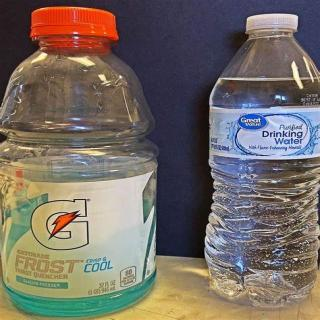Anorganik: (3, 3, 161, 316), (204, 11, 320, 309)
